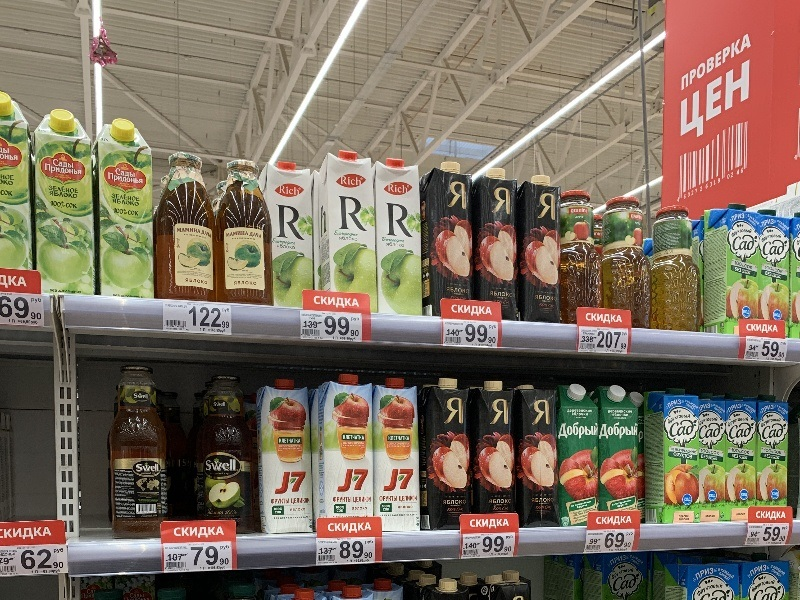juice: (79, 113, 162, 300), (32, 102, 103, 305), (254, 374, 325, 541), (315, 145, 381, 302), (314, 369, 380, 519), (371, 155, 430, 321), (413, 376, 474, 534), (415, 158, 478, 303), (372, 376, 428, 537), (708, 197, 767, 341), (513, 377, 567, 534), (646, 384, 702, 534), (550, 380, 605, 529), (473, 161, 525, 311), (518, 171, 566, 331), (266, 156, 317, 305), (467, 376, 521, 516), (595, 380, 647, 513)
